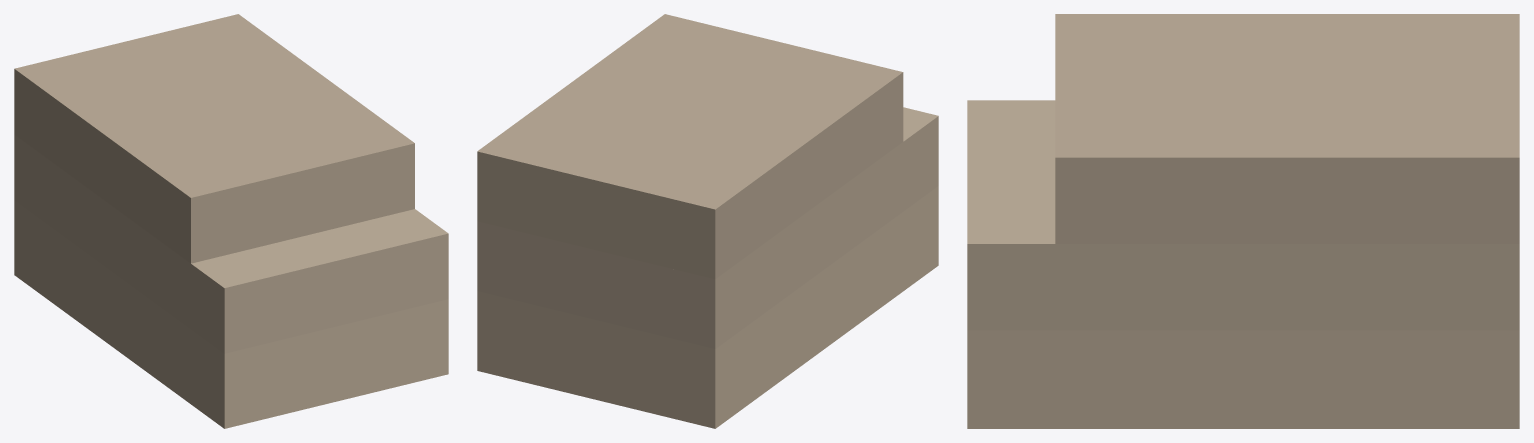
The model's file is massing.glb.
3 renders of one model, left to right at view 1: azimuth 30°, elevation 25°; view 2: azimuth 150°, elevation 25°; view 3: azimuth 270°, elevation 25°, orthographic. The views are drawn at different scales.
Visible parts, largest first — view 1: main/floor3/0, main/floor2/0, main/floor1/0; view 2: main/floor3/0, main/floor1/0, main/floor2/0; view 3: main/floor3/0, main/floor2/0, main/floor1/0.
Boxes of the visible parts, bbox=[...] form: main/floor3/0: bbox=[14, 14, 414, 263]; main/floor2/0: bbox=[14, 134, 448, 353]; main/floor1/0: bbox=[14, 200, 448, 428]; main/floor3/0: bbox=[477, 14, 903, 279]; main/floor1/0: bbox=[477, 186, 938, 428]; main/floor2/0: bbox=[477, 107, 938, 348]; main/floor3/0: bbox=[1055, 14, 1519, 243]; main/floor2/0: bbox=[967, 100, 1519, 330]; main/floor1/0: bbox=[967, 330, 1519, 428].
Size of the model in its own units: 10 by 8.8 by 16.24.
